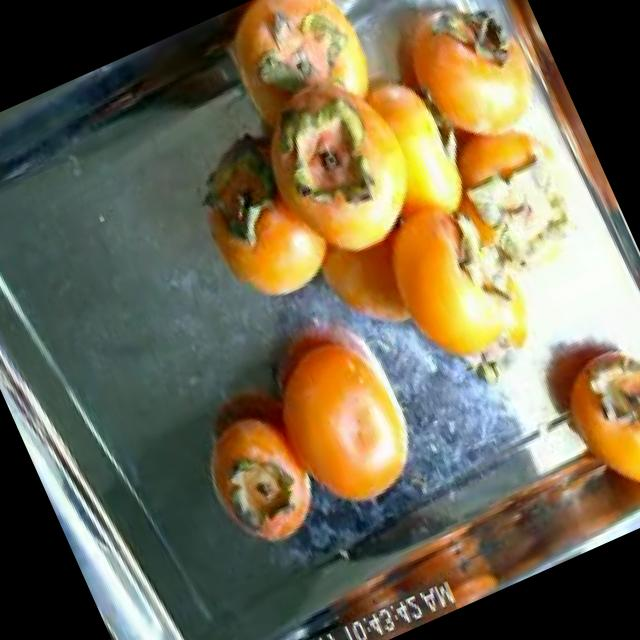Fruit: (240, 308, 447, 542), (174, 378, 342, 572)
